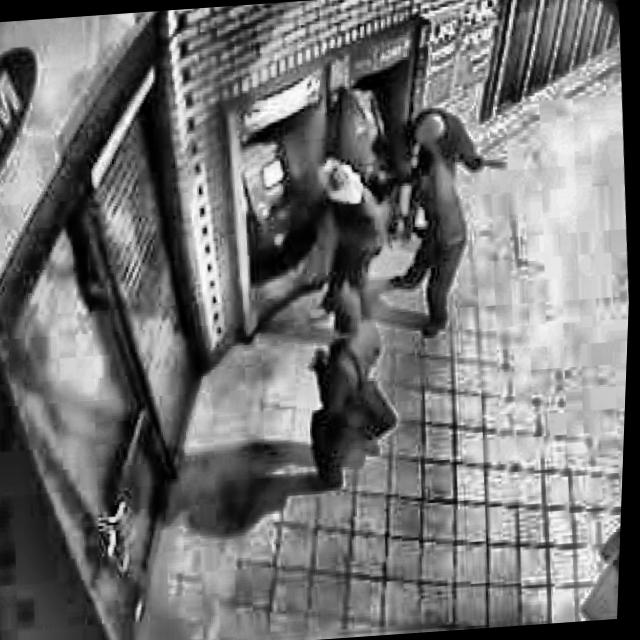burglary: (220, 62, 533, 499)
